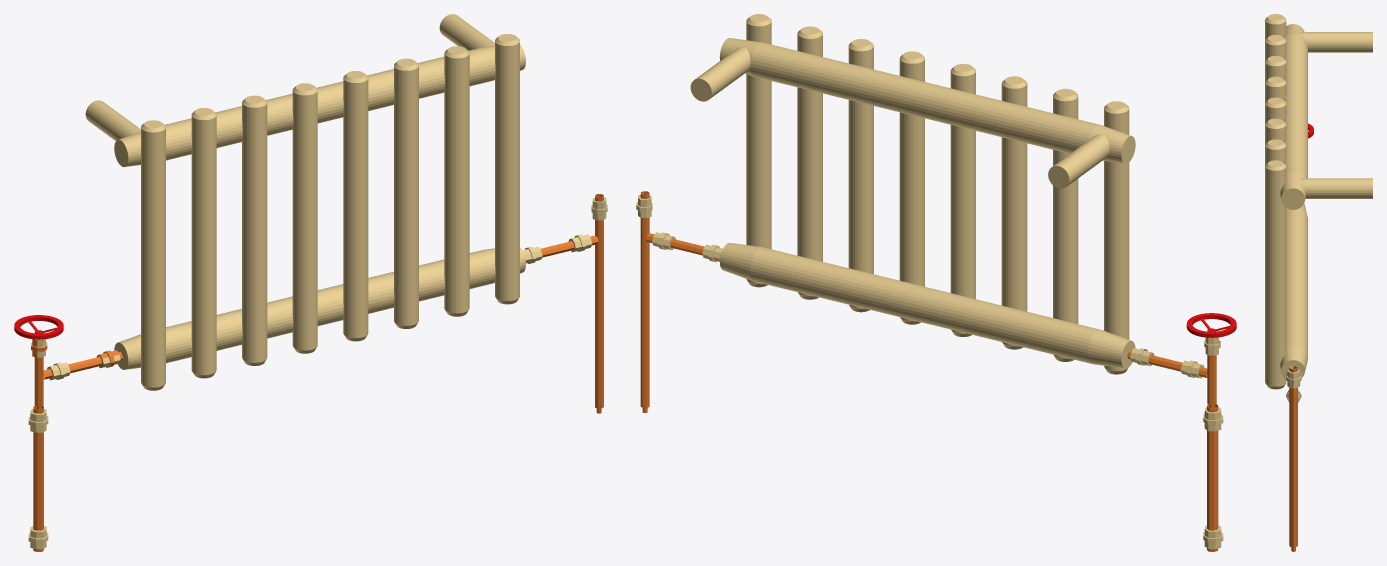
Rendered from Heater.fbx.
3 views of the same model, side by side, from view 1: azimuth 30°, elevation 25°; view 2: azimuth 150°, elevation 25°; view 3: azimuth 270°, elevation 25° (orthographic). The views are drawn at different scales.
Parts seen in each view (by area): view 1: TopHeaterBar, BottomHeaterBar, Heating Bar.002, Heating Bar.004, Heating Bar.006, Heating Bar.001, Heating Bar.003, Heating Bar, Heating Bar.007, Heating Bar.005, PipeConnectorR, PipeBarrel (+4 smaller); view 2: BottomHeaterBar, TopHeaterBar, Heating Bar, Heating Bar.002, Heating Bar.007, Heating Bar.006, Heating Bar.004, Heating Bar.005, Heating Bar.003, Heating Bar.001, PipeConnectorR, PipeBarrel (+4 smaller); view 3: Heating Bar.007, TopHeaterBar, BottomHeaterBar, PipeConnectorR, Cylinder.001, Cylinder, Heating Bar.006, Heating Bar.004, Heating Bar.005, Heating Bar.003, Heating Bar, Heating Bar.001 (+1 smaller).
Boxes of the visible parts, x1,y1,x2,y2 form: TopHeaterBar: (114, 45, 525, 166); BottomHeaterBar: (114, 248, 525, 369); Heating Bar.002: (242, 95, 267, 365); Heating Bar.004: (343, 71, 368, 341); Heating Bar.006: (444, 46, 469, 316); Heating Bar.001: (191, 108, 216, 378); Heating Bar.003: (292, 83, 317, 353); Heating Bar: (141, 120, 165, 390); Heating Bar.007: (495, 34, 519, 304); Heating Bar.005: (394, 58, 418, 328); PipeConnectorR: (522, 194, 607, 413); PipeBarrel: (28, 405, 48, 551); BottomHeaterBar: (719, 242, 1135, 368); TopHeaterBar: (719, 38, 1135, 163); Heating Bar: (1104, 101, 1129, 374); Heating Bar.002: (1001, 76, 1027, 349); Heating Bar.007: (746, 14, 771, 287); Heating Bar.006: (797, 26, 822, 299); Heating Bar.004: (899, 51, 924, 324); Heating Bar.005: (848, 39, 873, 312); Heating Bar.003: (950, 64, 975, 336); Heating Bar.001: (1053, 88, 1078, 361); PipeConnectorR: (636, 191, 722, 412); PipeBarrel: (1203, 404, 1223, 551); Heating Bar.007: (1265, 160, 1286, 389); TopHeaterBar: (1280, 24, 1307, 209); BottomHeaterBar: (1280, 203, 1307, 379); PipeConnectorR: (1286, 365, 1301, 551); Cylinder.001: (1300, 178, 1372, 198); Cylinder: (1300, 32, 1372, 52); Heating Bar.006: (1265, 139, 1286, 165); Heating Bar.004: (1265, 97, 1286, 123); Heating Bar.005: (1265, 118, 1286, 144); Heating Bar.003: (1265, 76, 1286, 102); Heating Bar: (1265, 14, 1286, 40); Heating Bar.001: (1265, 35, 1286, 61).
Size of the model in its own units: 175 by 115 by 32.66.
